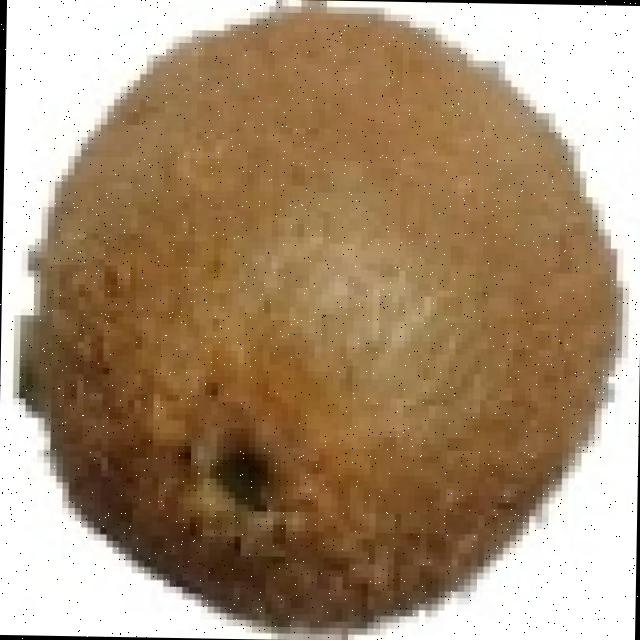kiwi: (25, 11, 621, 621)
